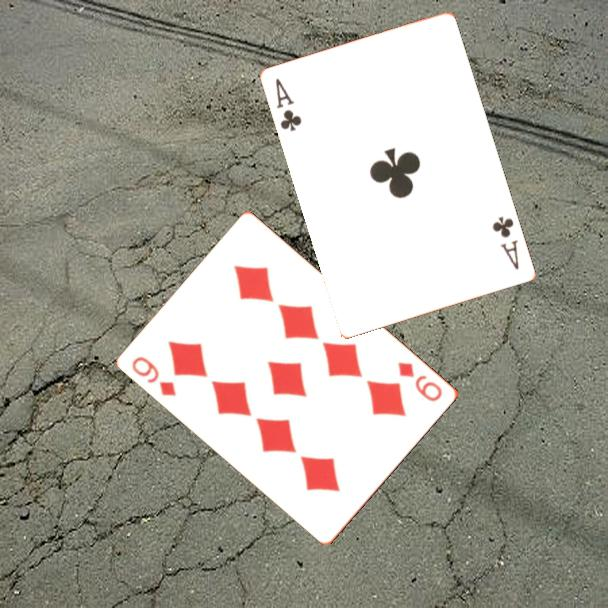c01: (489, 213, 522, 273), (272, 75, 305, 134)
d09: (395, 358, 446, 405), (129, 353, 179, 399)
